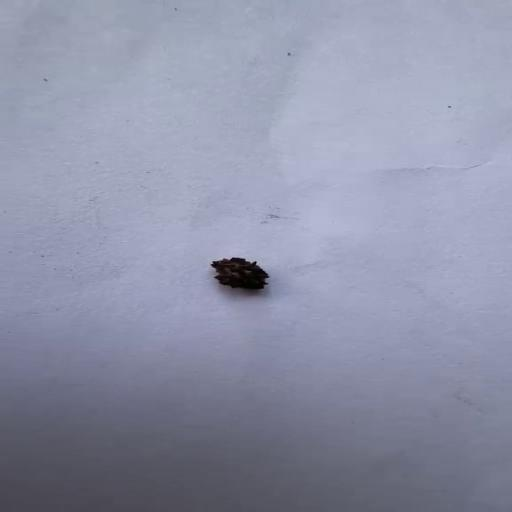papaya_seed: (207, 256, 272, 290)
